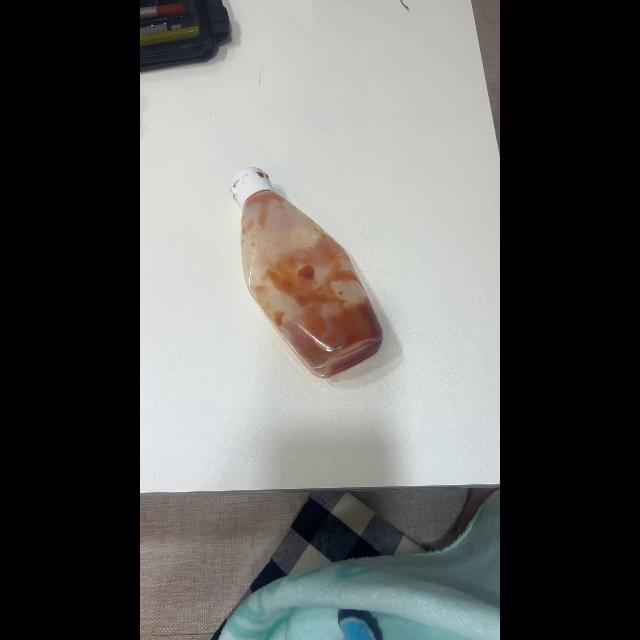dirty: (230, 165, 386, 377)
